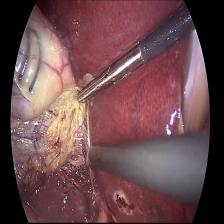Grasper: (76, 34, 140, 108)
Hook: (82, 136, 92, 174)
